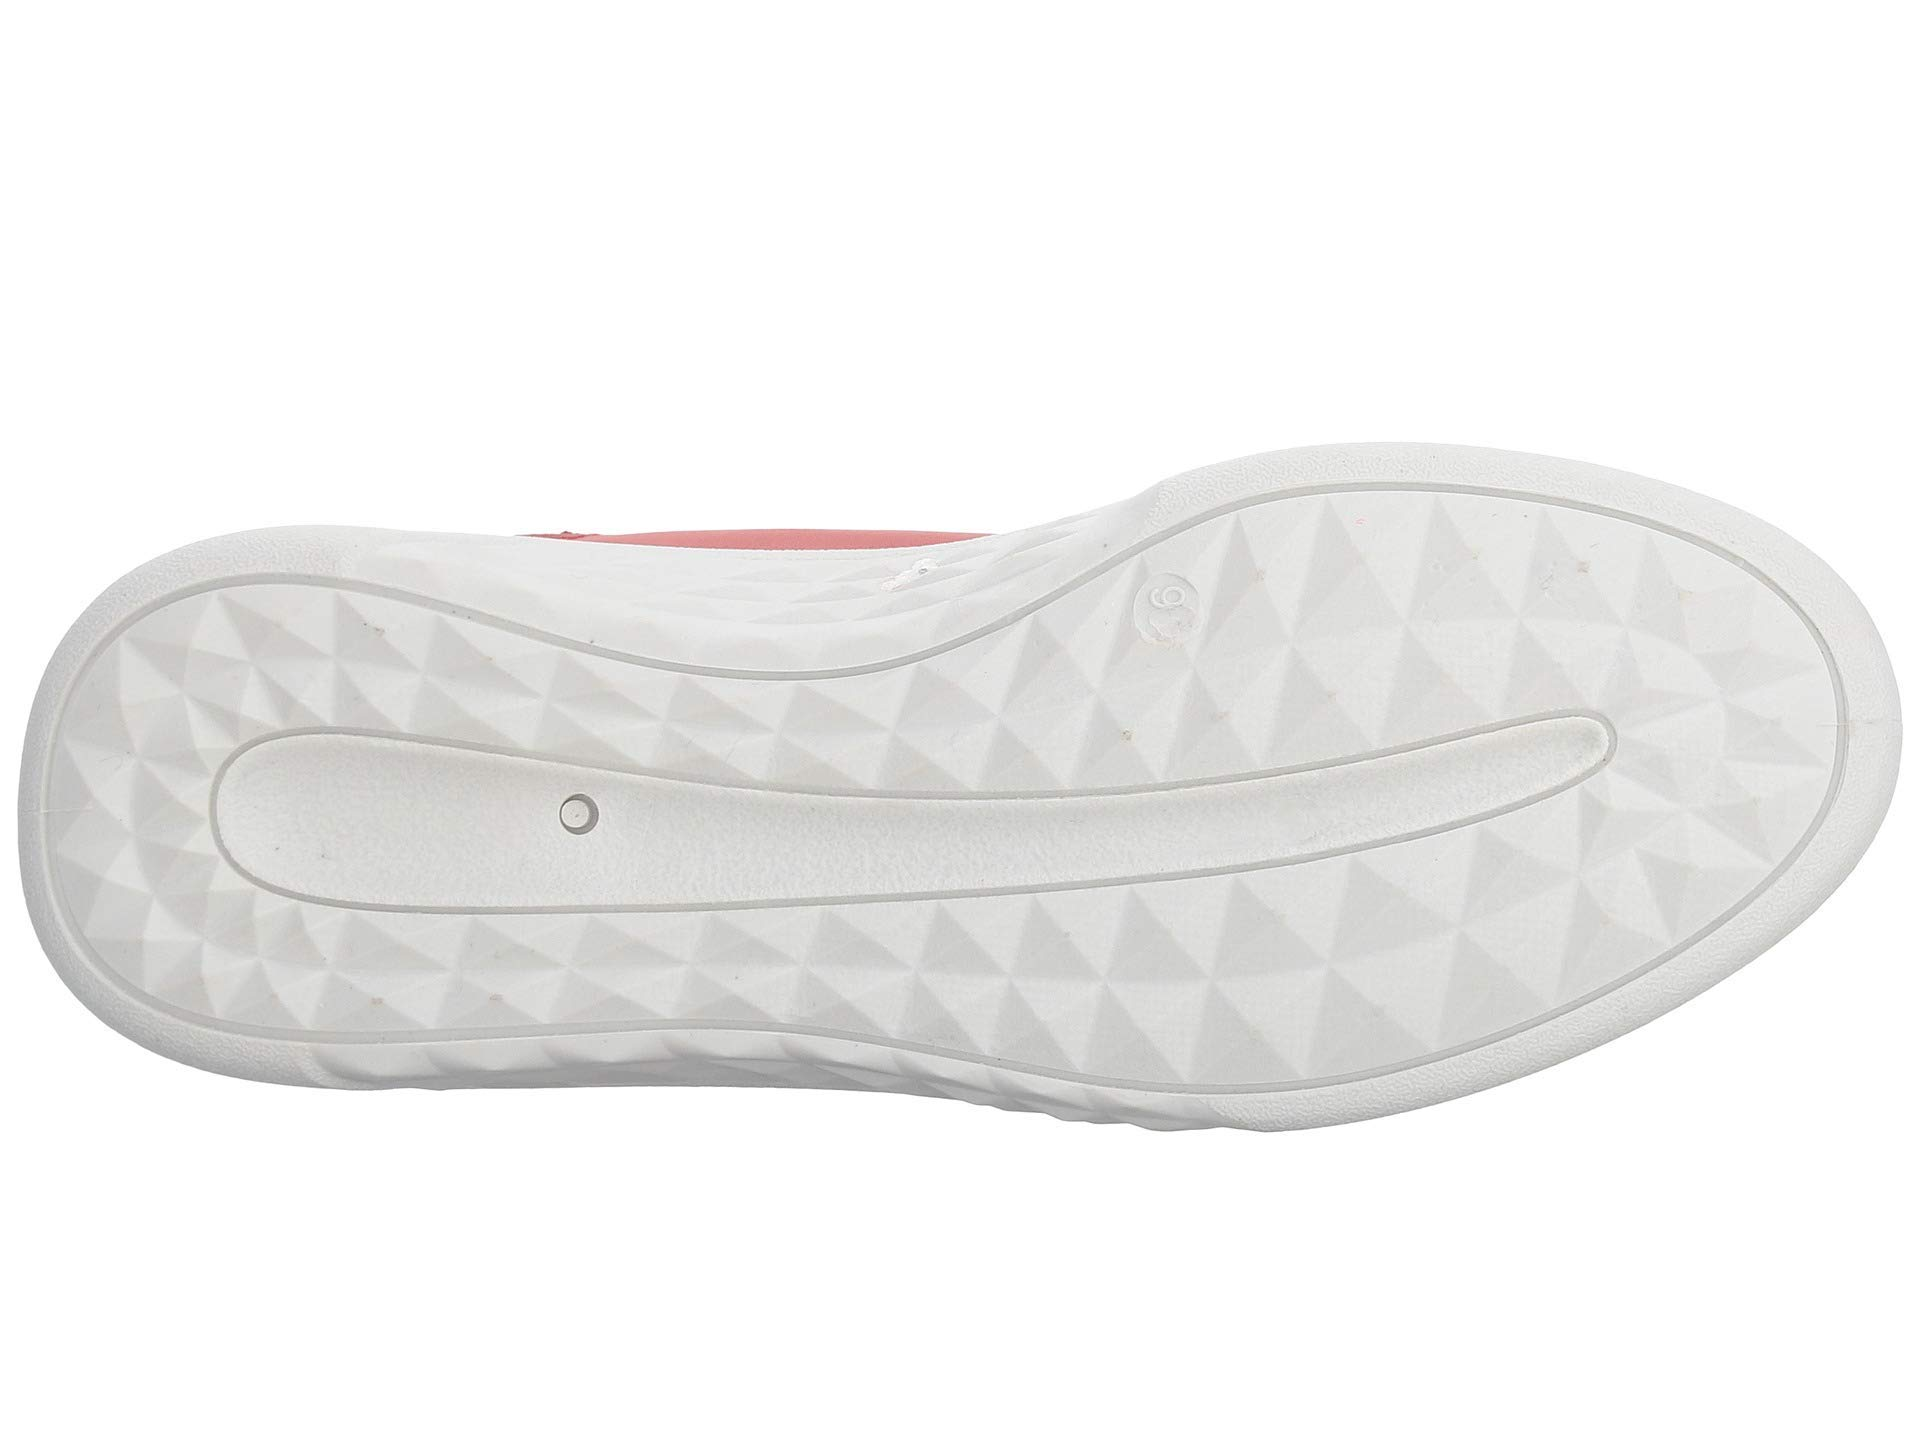circle: (509, 765, 656, 885)
line: (1217, 489, 1533, 768), (1202, 826, 1486, 1101), (1615, 616, 1853, 874), (60, 684, 298, 939)
triangle: (1217, 489, 1533, 768), (1202, 826, 1486, 1101), (1615, 616, 1853, 874), (60, 684, 298, 939)
